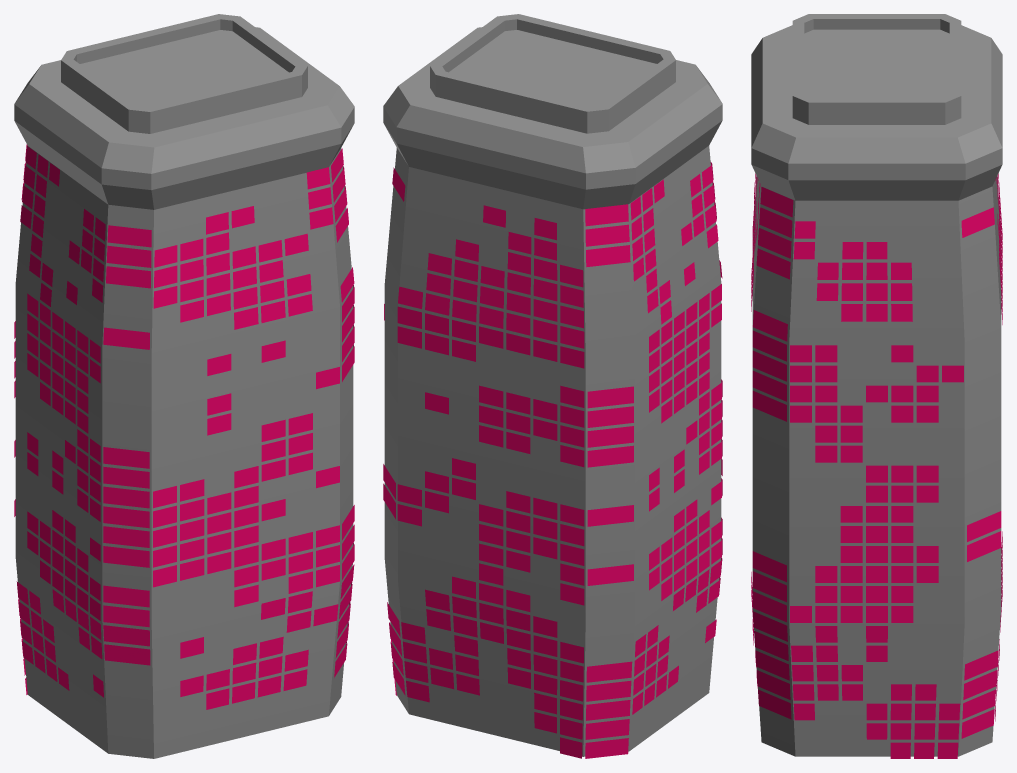
Rendered from obj_bbuilding002.FBX.
3 renders of one model, left to right at view 1: azimuth 30°, elevation 25°; view 2: azimuth 150°, elevation 25°; view 3: azimuth 270°, elevation 25°, orthographic.
Visible parts, largest first — view 1: bbuilding002, Object006; view 2: bbuilding002, Object006; view 3: bbuilding002, Object006.
Part boxes in pixels (x1,y1,x2,y2): bbuilding002: [14, 14, 354, 758]; Object006: [14, 144, 354, 709]; bbuilding002: [383, 14, 722, 756]; Object006: [383, 162, 722, 758]; bbuilding002: [751, 14, 1002, 756]; Object006: [751, 173, 1002, 758].
Bounding box in the file's own units: 8597 × 20570 × 7291.
